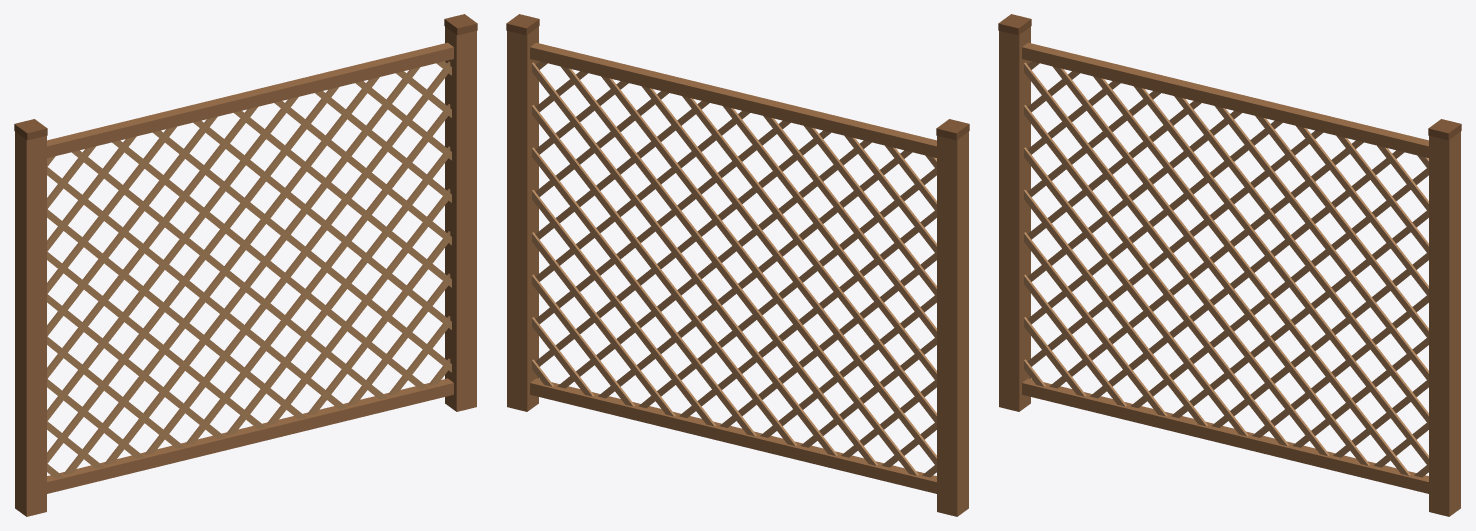
3 renders of one model, left to right at view 1: azimuth 30°, elevation 25°; view 2: azimuth 150°, elevation 25°; view 3: azimuth 330°, elevation 25°, orthographic.
Parts seen in each view (by area): view 1: Lattice, Frame, Posts, EndPost; view 2: Lattice, Frame, Posts, EndPost; view 3: Lattice, Frame, EndPost, Posts.
Boxes of the visible parts, bbox=[...] form: Lattice: bbox=[47, 61, 451, 478]; Frame: bbox=[47, 42, 453, 493]; Posts: bbox=[15, 131, 46, 516]; EndPost: bbox=[445, 26, 476, 411]; Lattice: bbox=[532, 61, 936, 477]; Frame: bbox=[530, 42, 936, 493]; Posts: bbox=[937, 131, 968, 516]; EndPost: bbox=[507, 26, 538, 411]; Lattice: bbox=[1024, 61, 1428, 477]; Frame: bbox=[1022, 42, 1428, 493]; EndPost: bbox=[1429, 131, 1460, 516]; Posts: bbox=[999, 26, 1030, 411].
Bounding box in the file's own units: 2 × 1.63 × 0.1.
